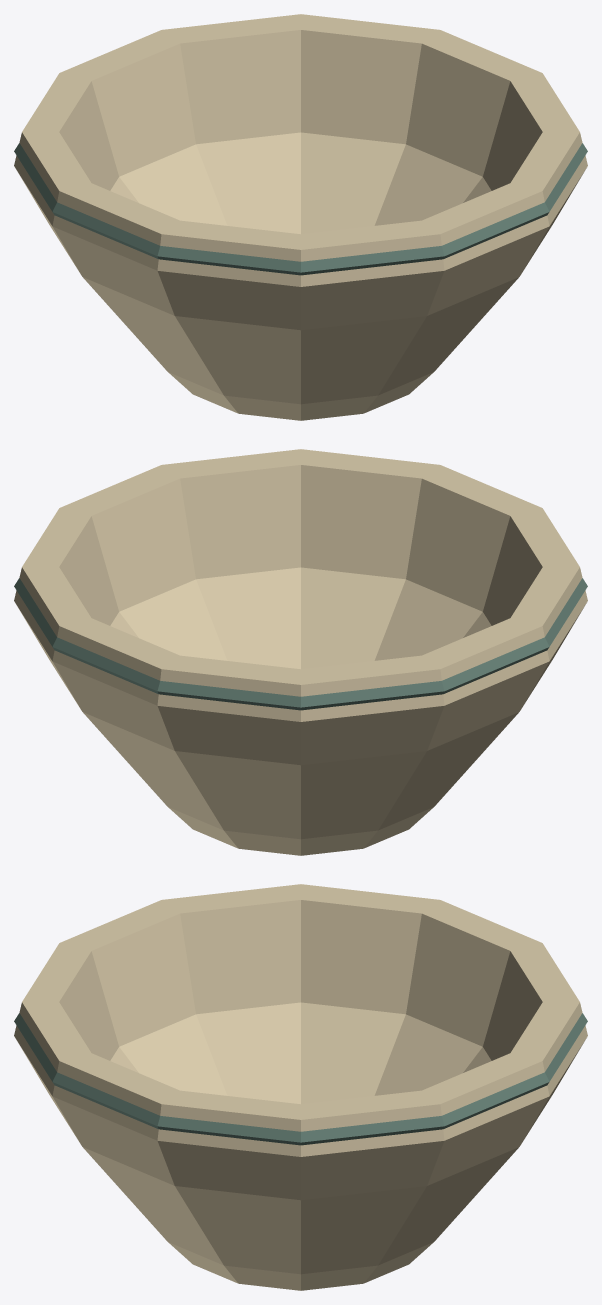
Rendered from SWP_CoarseBowl.fbx.
3 views of the same model, one above another, from view 1: azimuth 30°, elevation 25°; view 2: azimuth 150°, elevation 25°; view 3: azimuth 270°, elevation 25° (orthographic).
Parts seen in each view (by area): view 1: SWP_CoarseBowl; view 2: SWP_CoarseBowl; view 3: SWP_CoarseBowl.
Part boxes in pixels (x1,y1,x2,y2): SWP_CoarseBowl: (14, 14, 587, 420); SWP_CoarseBowl: (14, 449, 587, 855); SWP_CoarseBowl: (14, 884, 587, 1290).
Bounding box in the file's own units: 0.216 × 0.098 × 0.216.
